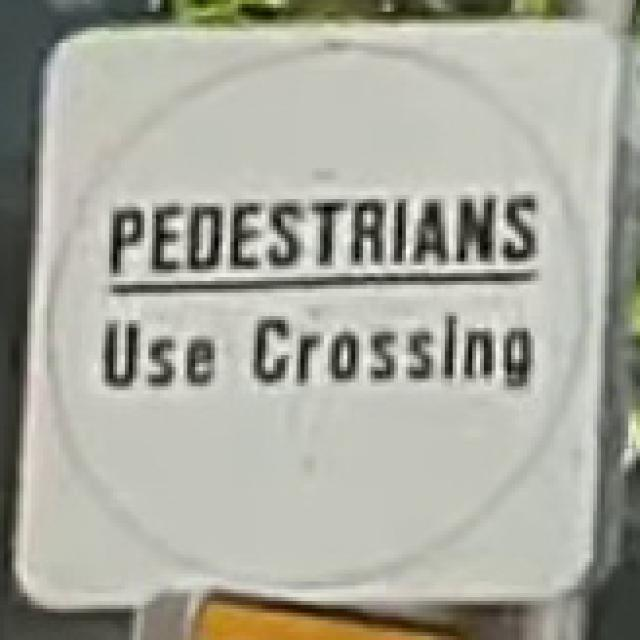pedestriancrossing_sign: (8, 16, 624, 616)
